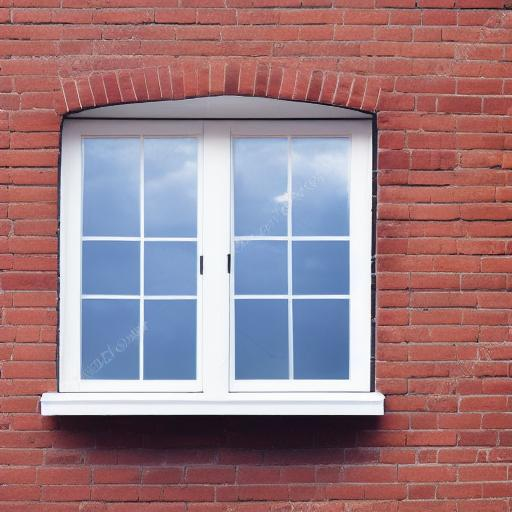Window: (40, 67, 390, 424)
